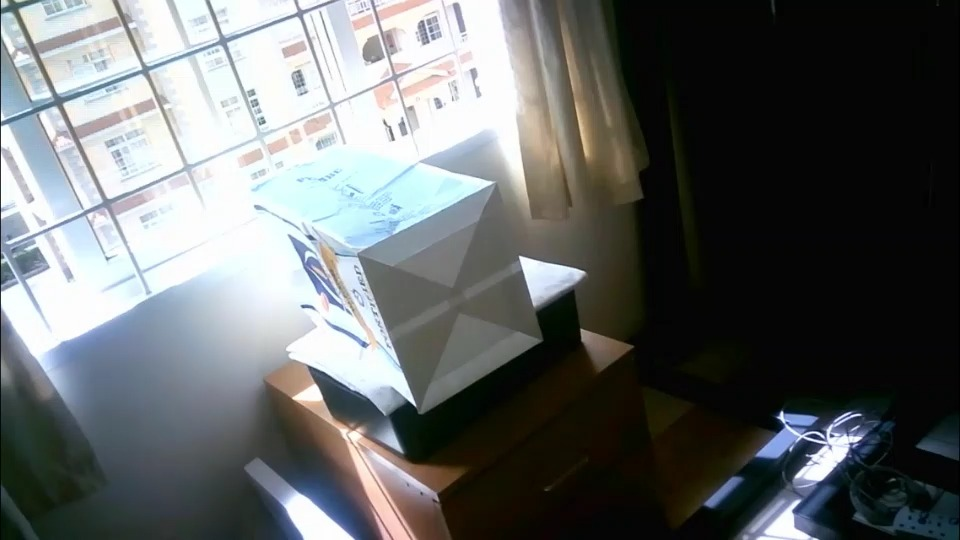wheat_flour_blue_label: (251, 148, 542, 412)
